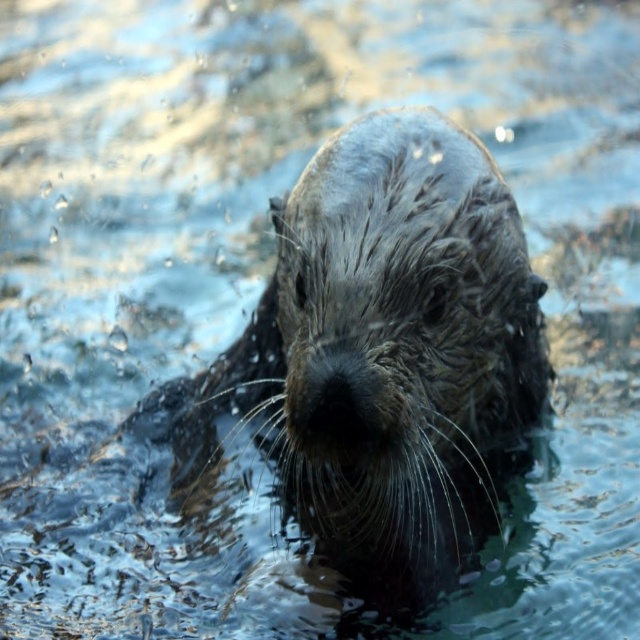Harbor seal: (99, 104, 556, 618)
